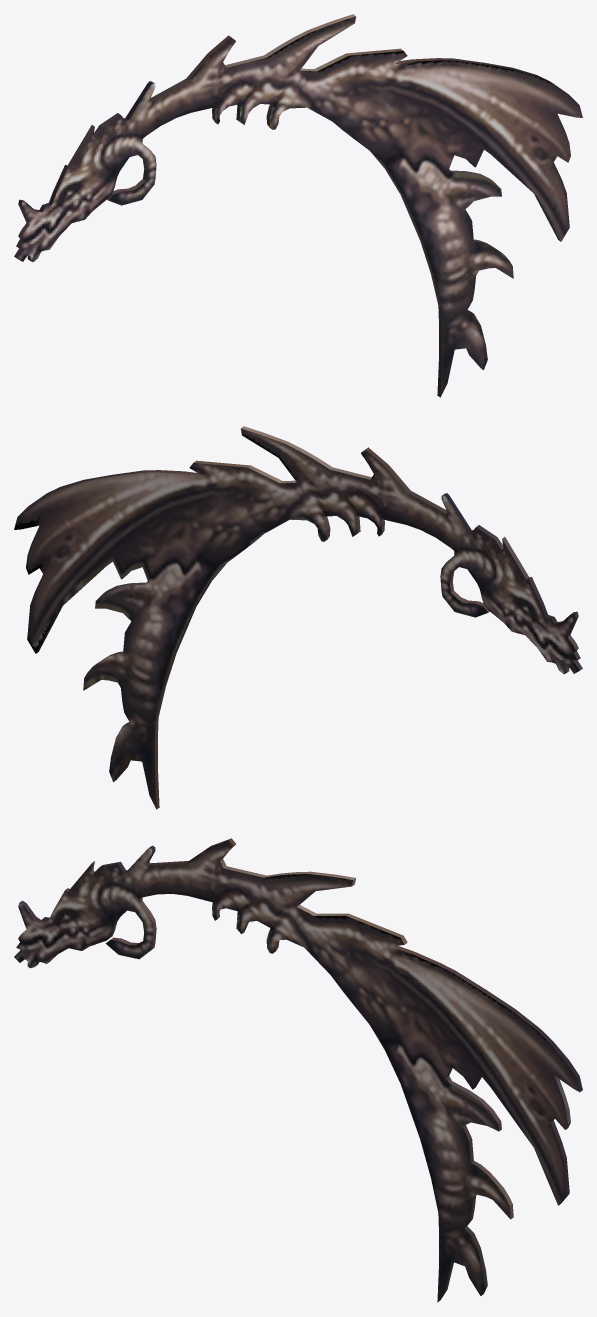
The model's file is LegendaryIcon.glb.
3 views of the same model, one above another, from view 1: azimuth 30°, elevation 25°; view 2: azimuth 150°, elevation 25°; view 3: azimuth 330°, elevation 25° (orthographic).
Parts seen in each view (by area): view 1: Circle.007; view 2: Circle.007; view 3: Circle.007.
Part boxes in pixels (<box>): Circle.007: <box>14,14,582,397</box>; Circle.007: <box>14,426,582,809</box>; Circle.007: <box>14,838,582,1302</box>.
Bounding box in the file's own units: 5.82 × 4.04 × 0.0544.
Materials: 1 (1 with a texture image).
